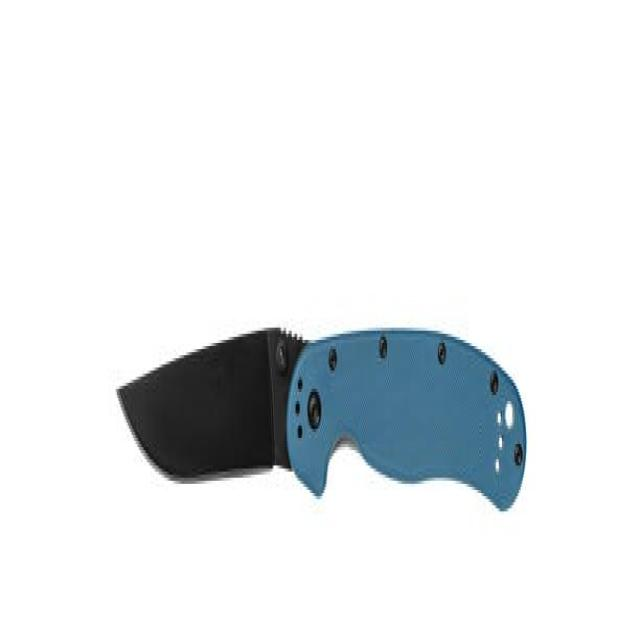knife: (113, 314, 531, 533)
